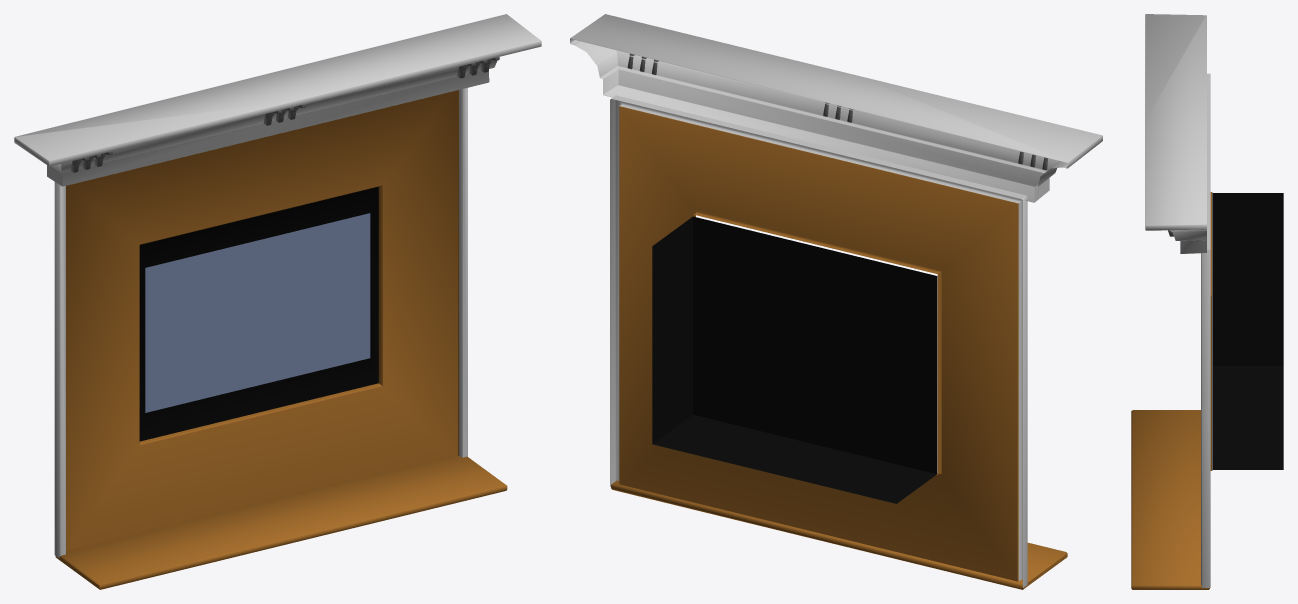
The model's file is Fireplace1.fbx.
3 renders of one model, left to right at view 1: azimuth 30°, elevation 25°; view 2: azimuth 150°, elevation 25°; view 3: azimuth 270°, elevation 25°, orthographic. The views are drawn at different scales.
Parts seen in each view (by area): view 1: Cylinder.028, Cylinder.018; view 2: Cylinder.028; view 3: Cylinder.028.
Part boxes in pixels (x1,y1,x2,y2): Cylinder.028: (14, 14, 541, 589); Cylinder.018: (70, 57, 499, 172); Cylinder.028: (570, 14, 1102, 589); Cylinder.028: (1131, 14, 1283, 589).
Bounding box in the file's own units: 24.75 × 20.91 × 7.51.
